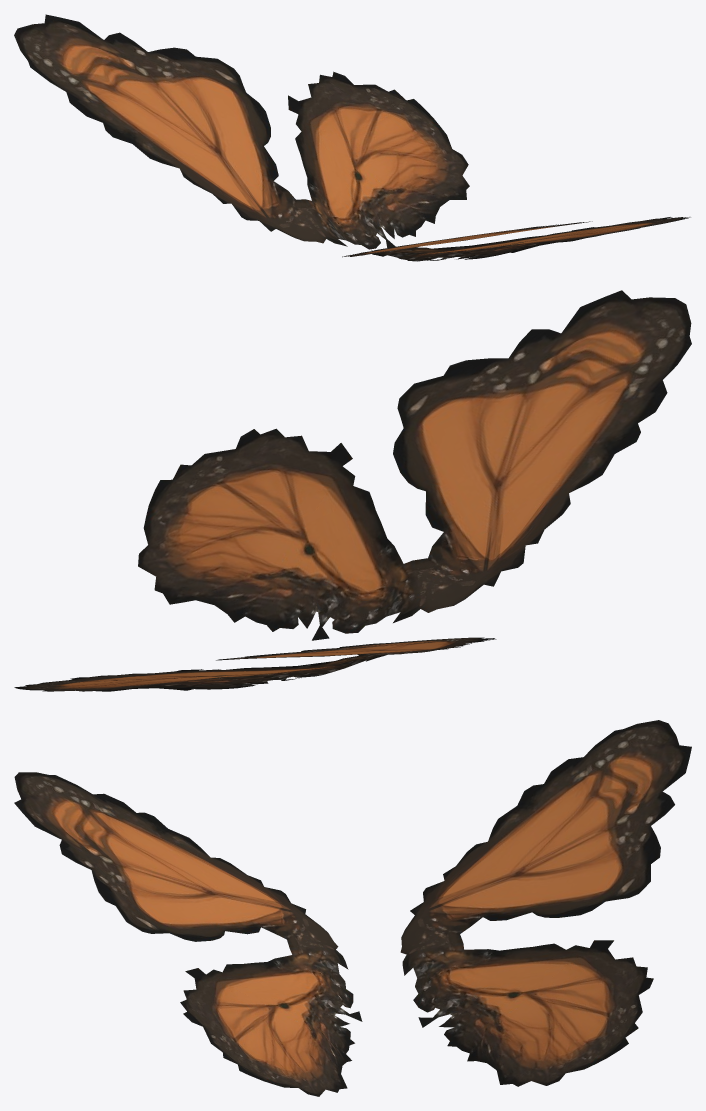
Rendered from mariposaAlas.obj.
The picture shows the model from 3 angles, top to bottom: view 1: azimuth 30°, elevation 25°; view 2: azimuth 150°, elevation 25°; view 3: azimuth 270°, elevation 25°; orthographic projection. The views are drawn at different scales.
Visible parts, largest first — view 1: alaDer, ala_izq; view 2: ala_izq, alaDer; view 3: alaDer, ala_izq.
Part boxes in pixels (x1,y1,x2,y2): alaDer: (14, 14, 469, 249); ala_izq: (342, 217, 690, 261); ala_izq: (138, 290, 691, 640); alaDer: (14, 637, 496, 691); alaDer: (400, 720, 691, 1086); ala_izq: (14, 772, 362, 1096).
Bounding box in the file's own units: 0.0628 × 0.0264 × 0.0813.
Materials: 1 (1 with a texture image).
